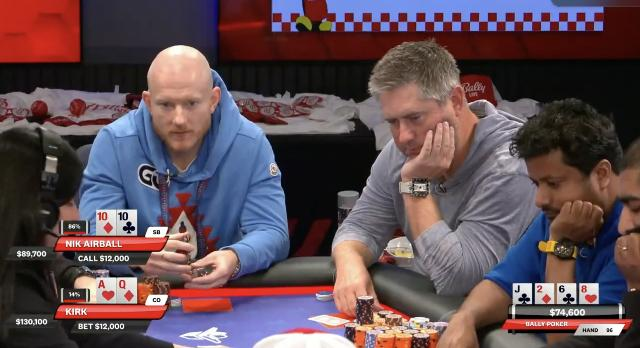10C: (118, 211, 136, 235)
10D: (97, 211, 115, 235)
2D: (536, 284, 554, 304)
6C: (558, 284, 576, 304)
8H: (580, 284, 598, 304)
AH: (96, 278, 115, 304)
JC: (514, 284, 530, 304)
QD: (118, 279, 136, 303)
